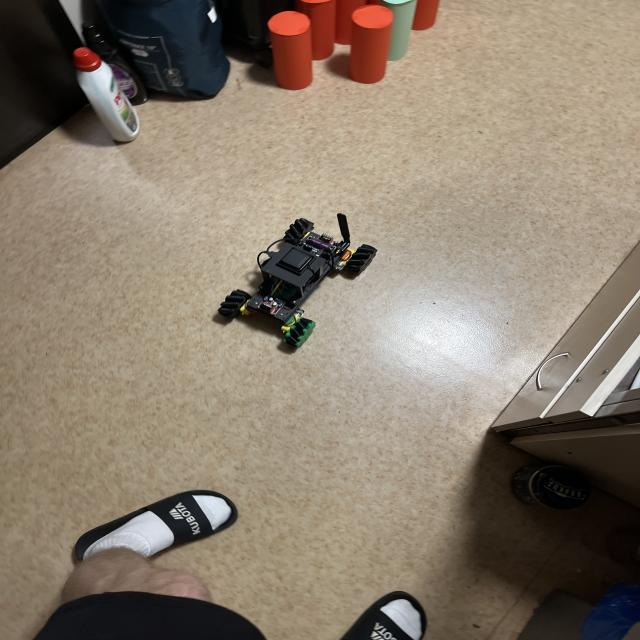robot: (218, 213, 377, 347)
